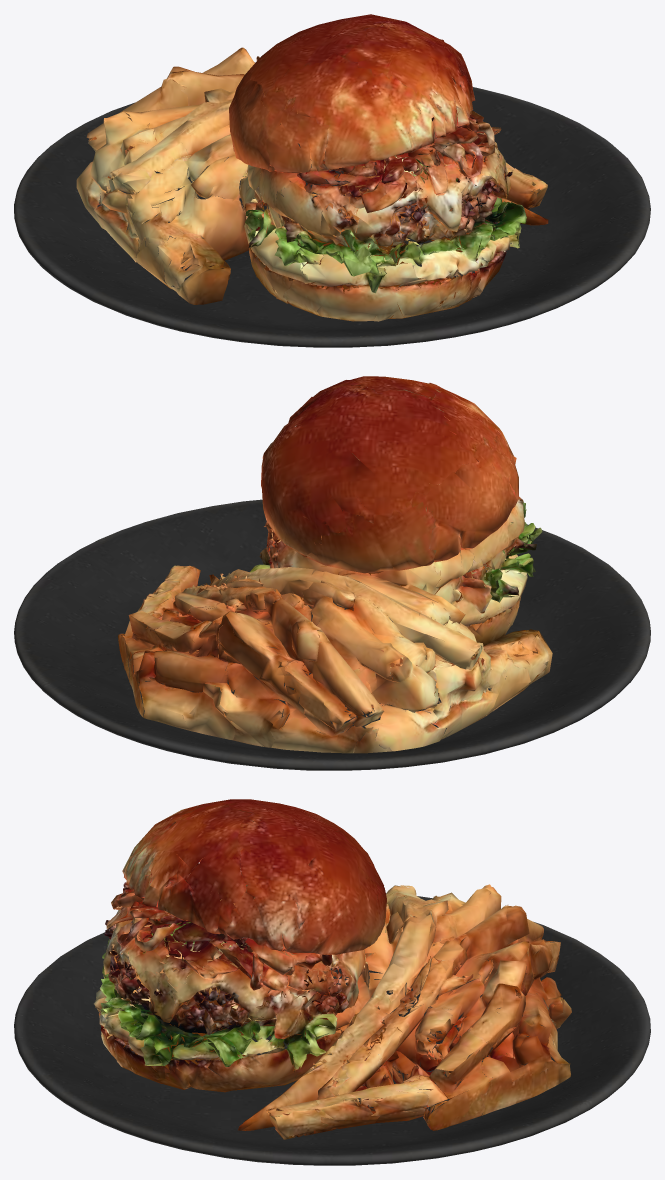
File: dish-burger.glb
3 views of the same model, one above another, from view 1: azimuth 30°, elevation 25°; view 2: azimuth 150°, elevation 25°; view 3: azimuth 270°, elevation 25° (orthographic).
Parts seen in each view (by area): view 1: model, plate; view 2: model, plate; view 3: model, plate.
Part boxes in pixels (bbox=[...]): model: bbox=[76, 14, 548, 321]; plate: bbox=[14, 87, 650, 347]; model: bbox=[118, 376, 552, 753]; plate: bbox=[14, 499, 650, 770]; model: bbox=[93, 799, 571, 1139]; plate: bbox=[14, 896, 650, 1165].
Bounding box in the file's own units: 0.3 × 0.1312 × 0.3.
Materials: 2 (2 with a texture image).
